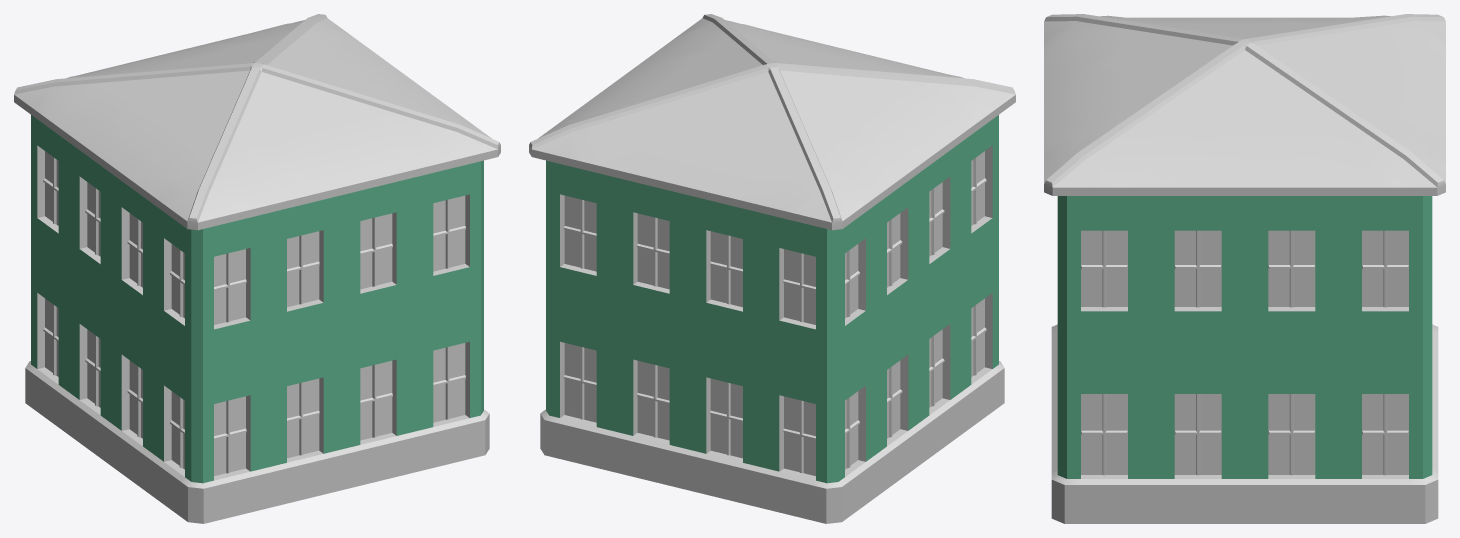
The model's file is 4CornerBuilding_Convex 1.fbx.
The picture shows the model from 3 angles, left to right: view 1: azimuth 30°, elevation 25°; view 2: azimuth 150°, elevation 25°; view 3: azimuth 270°, elevation 25°; orthographic projection. The views are drawn at different scales.
Visible parts, largest first — view 1: Concept17; view 2: Concept17; view 3: Concept17.
Boxes of the visible parts, box(x1,y1,x2,y2) form: Concept17: box(14, 14, 500, 523); Concept17: box(529, 14, 1015, 523); Concept17: box(1044, 14, 1445, 523).
Bounding box in the file's own units: 4.06 × 4.46 × 4.06.
